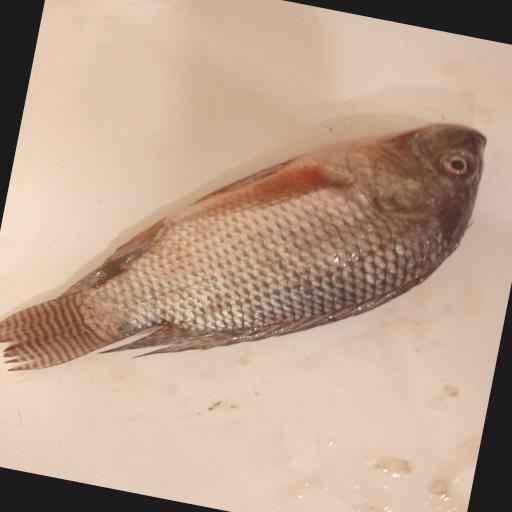Tilapia: (0, 43, 491, 453)
